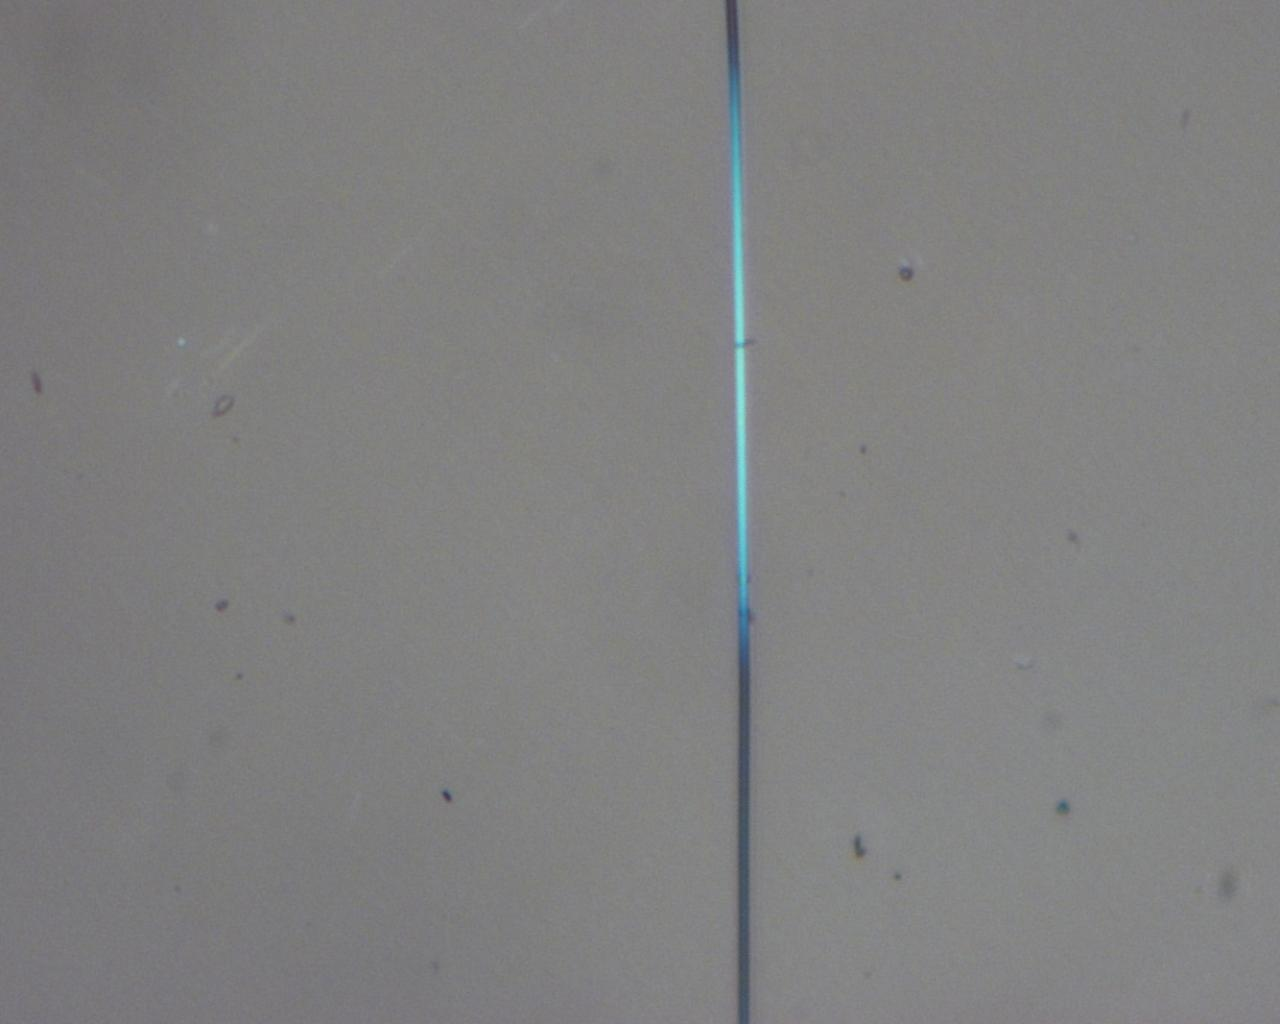fiber: (725, 0, 751, 1024)
